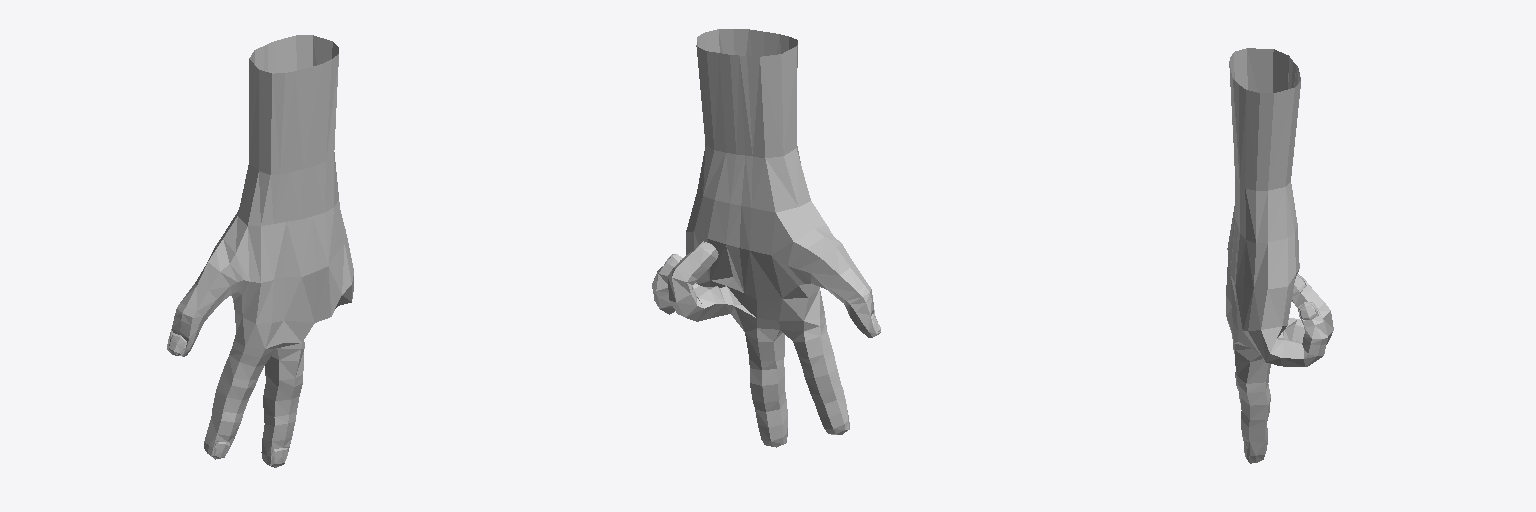
Rendered from handAnimated4_000050.obj.
The picture shows the model from 3 angles: view 1: azimuth 30°, elevation 25°; view 2: azimuth 150°, elevation 25°; view 3: azimuth 270°, elevation 25°; orthographic projection.
Visible parts, largest first — view 1: Cube.000_Cube.017_Detached_Detached; view 2: Cube.000_Cube.017_Detached_Detached; view 3: Cube.000_Cube.017_Detached_Detached.
Boxes of the visible parts, x1=… form: Cube.000_Cube.017_Detached_Detached: x1=167, y1=35, x2=353, y2=467; Cube.000_Cube.017_Detached_Detached: x1=652, y1=29, x2=880, y2=447; Cube.000_Cube.017_Detached_Detached: x1=1226, y1=48, x2=1333, y2=463.
Size of the model in its own units: 0.69 by 1.34 by 0.3256.